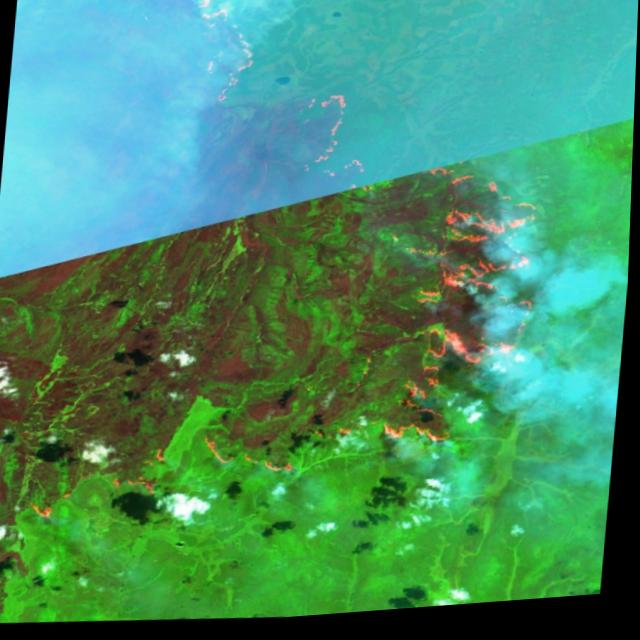fire: (23, 0, 565, 550)
